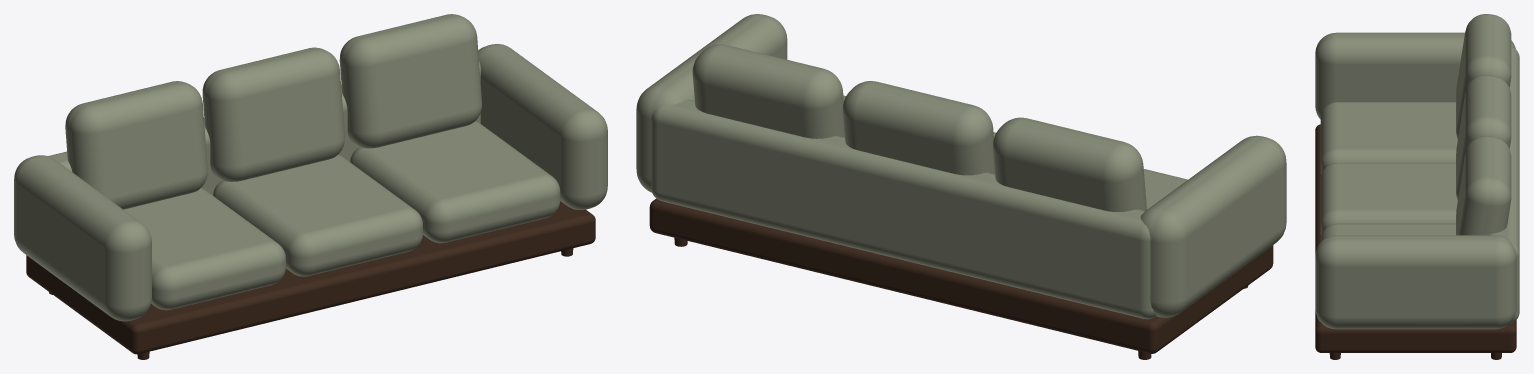
Rendered from arc-sofa.glb.
The picture shows the model from 3 angles, left to right: view 1: azimuth 30°, elevation 25°; view 2: azimuth 150°, elevation 25°; view 3: azimuth 270°, elevation 25°; orthographic projection. The views are drawn at different scales.
Parts seen in each view (by area): view 1: plinth, back-2, back-1, seat-2, seat-1, arm-l, back-0, arm-r, seat-0, backrest; view 2: backrest, plinth, arm-l, back-0, back-1, back-2, arm-r, seat-0; view 3: arm-r, arm-l, seat-0, seat-1, plinth, back-2, back-1, back-0, backrest, seat-2.
Boxes of the visible parts, <box> form: plinth: <box>26,201,595,354</box>; back-2: <box>339,14,481,148</box>; back-1: <box>202,47,344,181</box>; seat-2: <box>350,121,560,243</box>; seat-1: <box>213,154,422,276</box>; arm-l: <box>14,155,151,321</box>; back-0: <box>65,81,207,209</box>; arm-r: <box>478,44,607,210</box>; seat-0: <box>124,188,285,310</box>; backrest: <box>48,61,480,195</box>; backrest: <box>650,99,1156,319</box>; plinth: <box>649,198,1273,353</box>; arm-l: <box>1140,135,1286,317</box>; back-0: <box>993,117,1146,211</box>; back-1: <box>842,81,994,175</box>; back-2: <box>692,44,844,138</box>; arm-r: <box>636,14,787,192</box>; seat-0: <box>1143,169,1187,209</box>; arm-r: <box>1315,235,1516,329</box>; arm-l: <box>1315,32,1515,119</box>; seat-0: <box>1320,102,1457,175</box>; seat-1: <box>1320,163,1457,235</box>; plinth: <box>1315,124,1516,352</box>; back-2: <box>1456,136,1511,235</box>; back-1: <box>1456,75,1511,200</box>; back-0: <box>1456,14,1511,139</box>; backrest: <box>1489,47,1519,323</box>; seat-2: <box>1320,223,1455,241</box>.
Bounding box in the file's own units: 2.48 × 0.8694 × 0.965.
